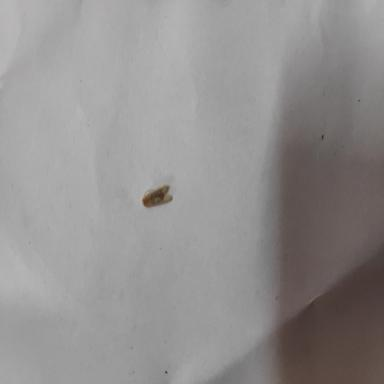pbw: (140, 182, 172, 208)
